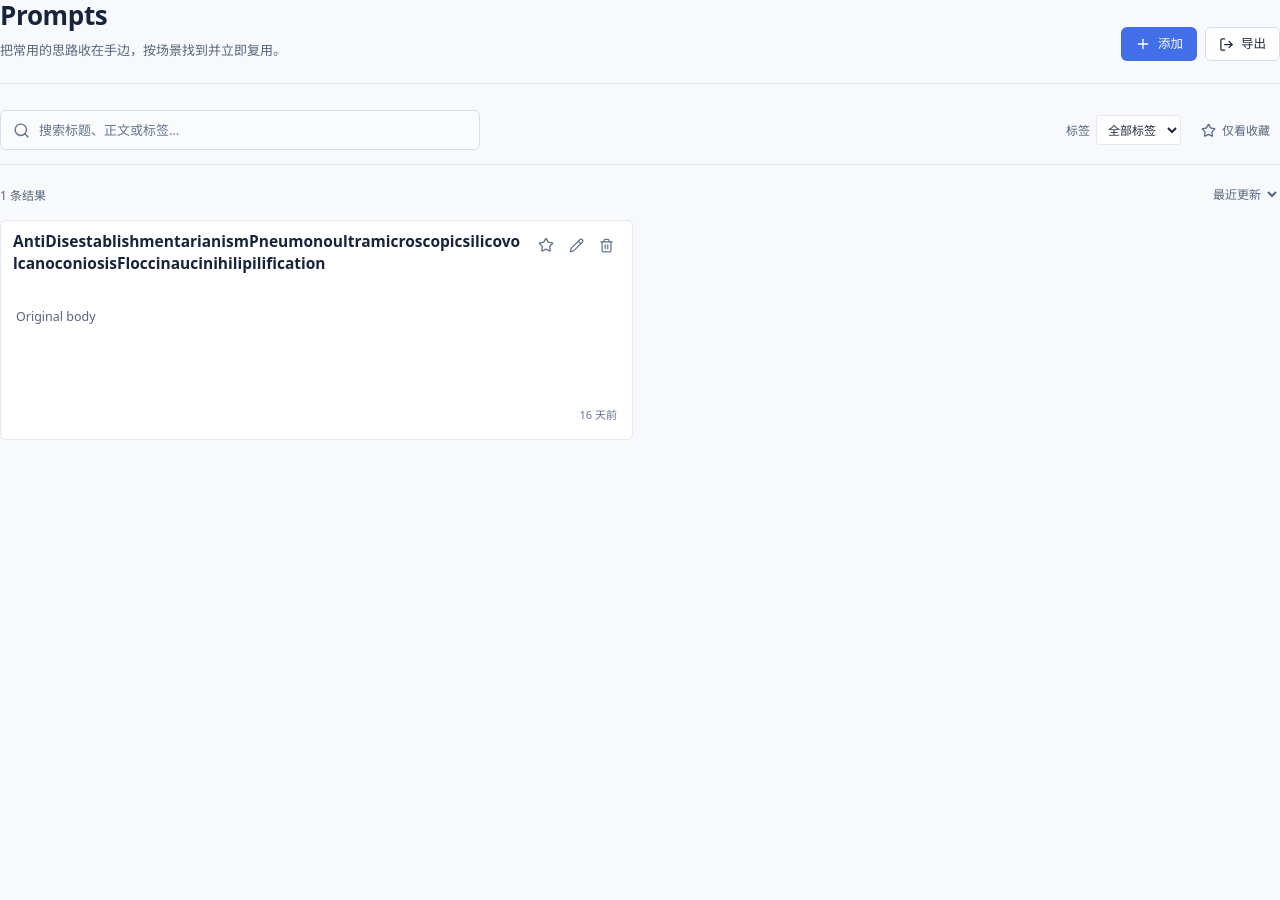
Test: keeps a long, unbreakable card title intact for preview and editing
The image size is (1280, 900).
Expected: the 2nd heading shows "AntiDisestablishmentarianismPneumonoultramicroscopicsilicovolcanoconiosisFloccinaucinihilipilification", x1=13 y1=230 x2=520 y2=274
Click the button "Original body" at (56, 316), box x1=1 y1=277 x2=632 y2=401
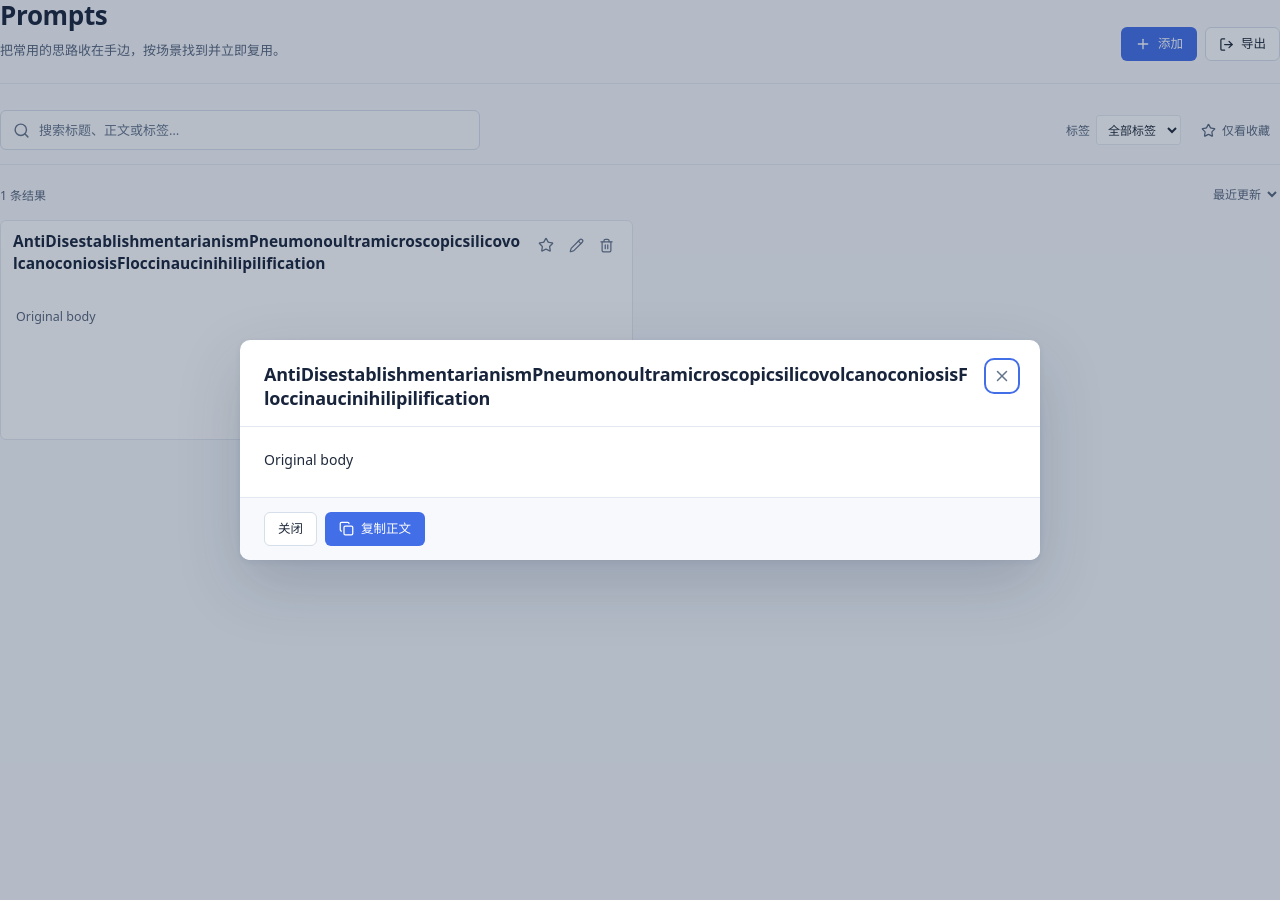
Now the dialog shows "AntiDisestablishmentarianismPneumonoultramicroscopicsilicovolcanoconiosisFloccinaucinihilipilification", box x1=264 y1=362 x2=968 y2=410
